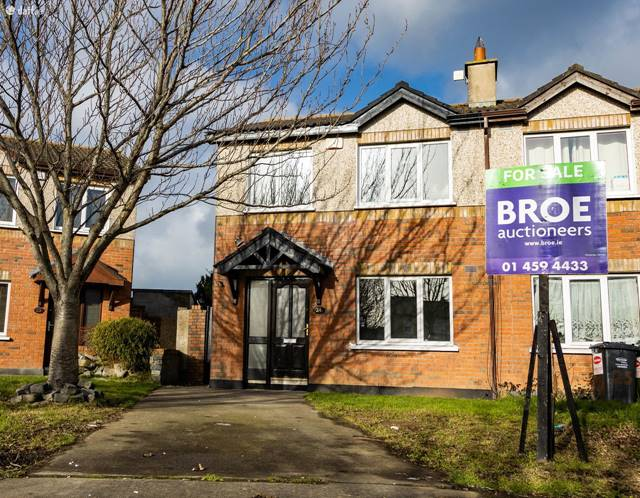property sign: (475, 158, 633, 285)
